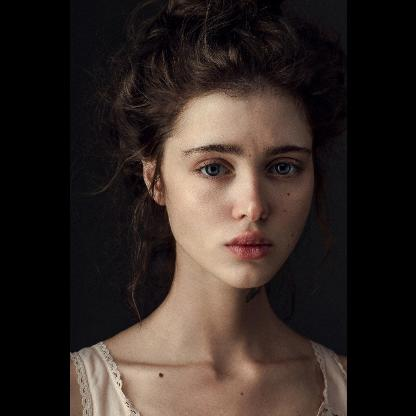Female: (141, 89, 315, 287)
